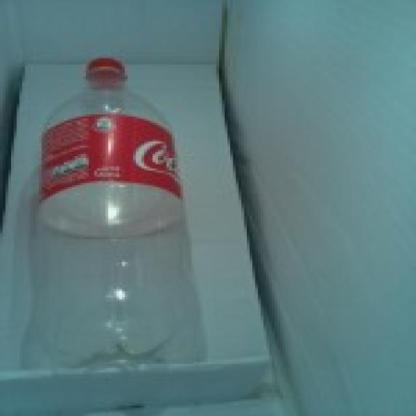Glass Bottle: (23, 48, 213, 387)
